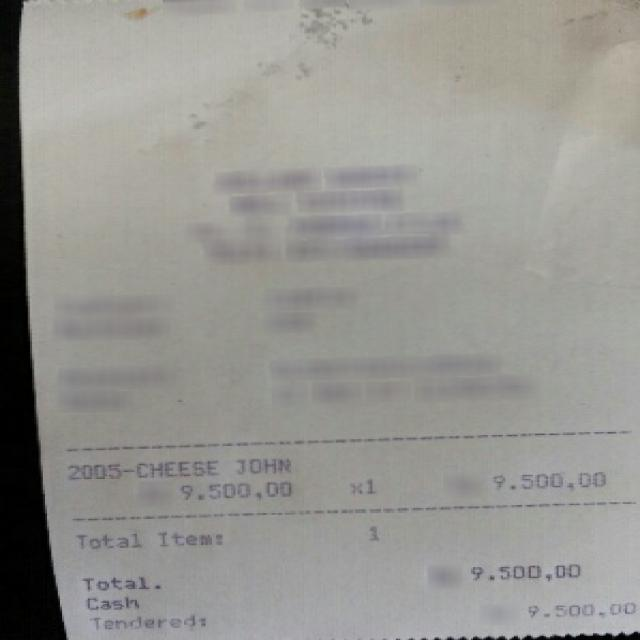text: (62, 456, 216, 478), (176, 479, 291, 500), (522, 597, 634, 618), (486, 468, 601, 486), (468, 560, 574, 578), (86, 612, 201, 628), (79, 574, 156, 589), (73, 530, 135, 546), (156, 528, 218, 544), (231, 456, 289, 472), (84, 592, 132, 607), (349, 476, 374, 492), (364, 522, 377, 540)
